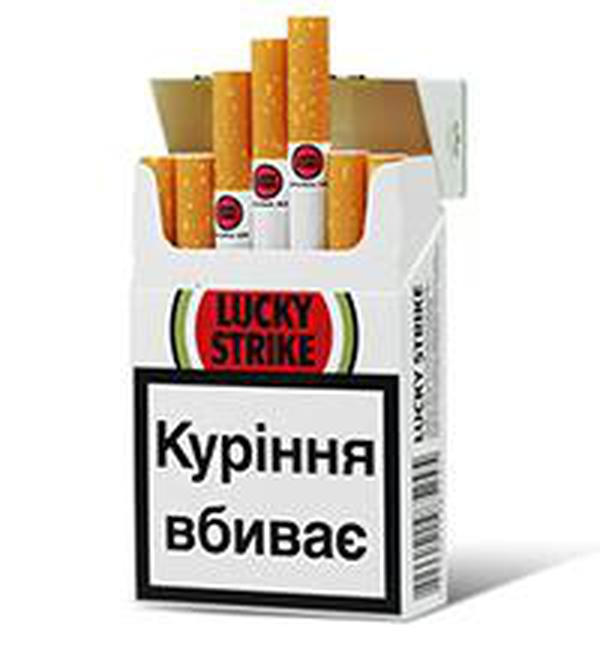lucky_strike_red: (135, 168, 404, 614)
